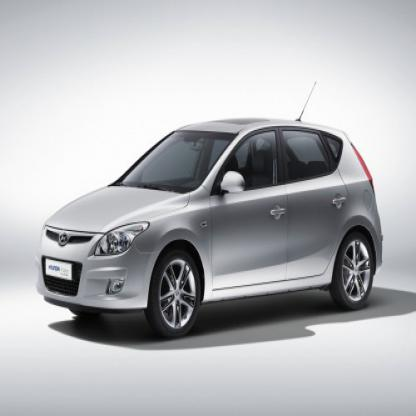Vehicle: (35, 82, 383, 340)
